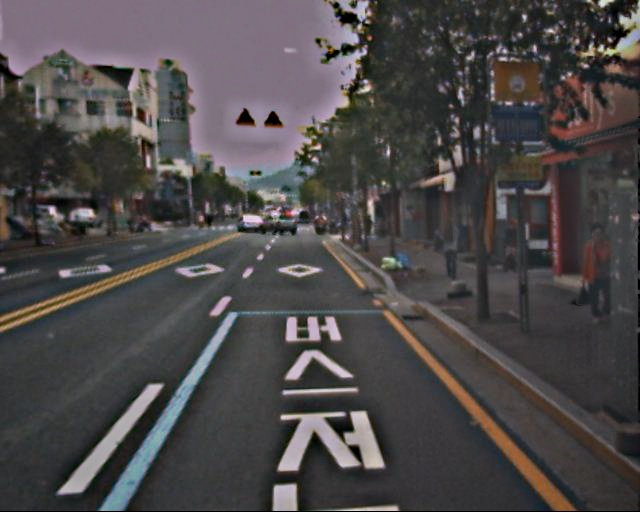person: (571, 224, 619, 326), (433, 216, 464, 288), (500, 216, 523, 273)
